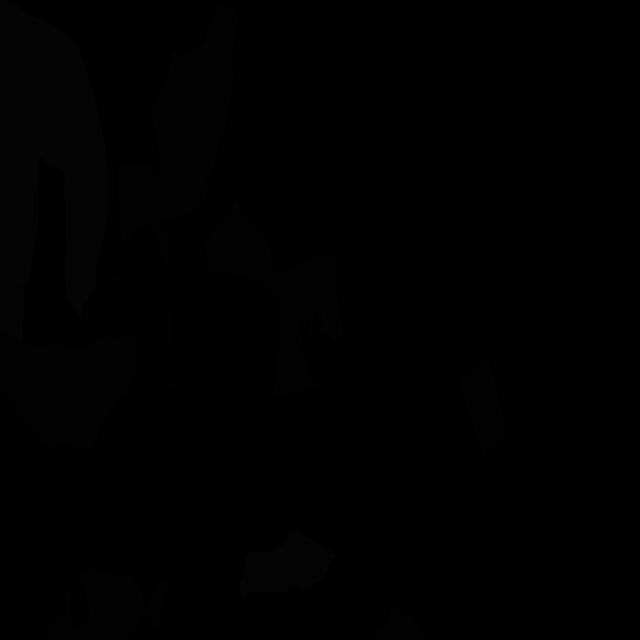cardboard: (204, 198, 344, 398), (152, 2, 238, 221), (0, 331, 137, 449), (44, 567, 170, 640), (116, 162, 172, 269), (458, 353, 507, 458), (375, 606, 428, 640)
rigid_plastic: (82, 270, 179, 400), (26, 587, 66, 640)
soft_plastic: (240, 531, 339, 600)
